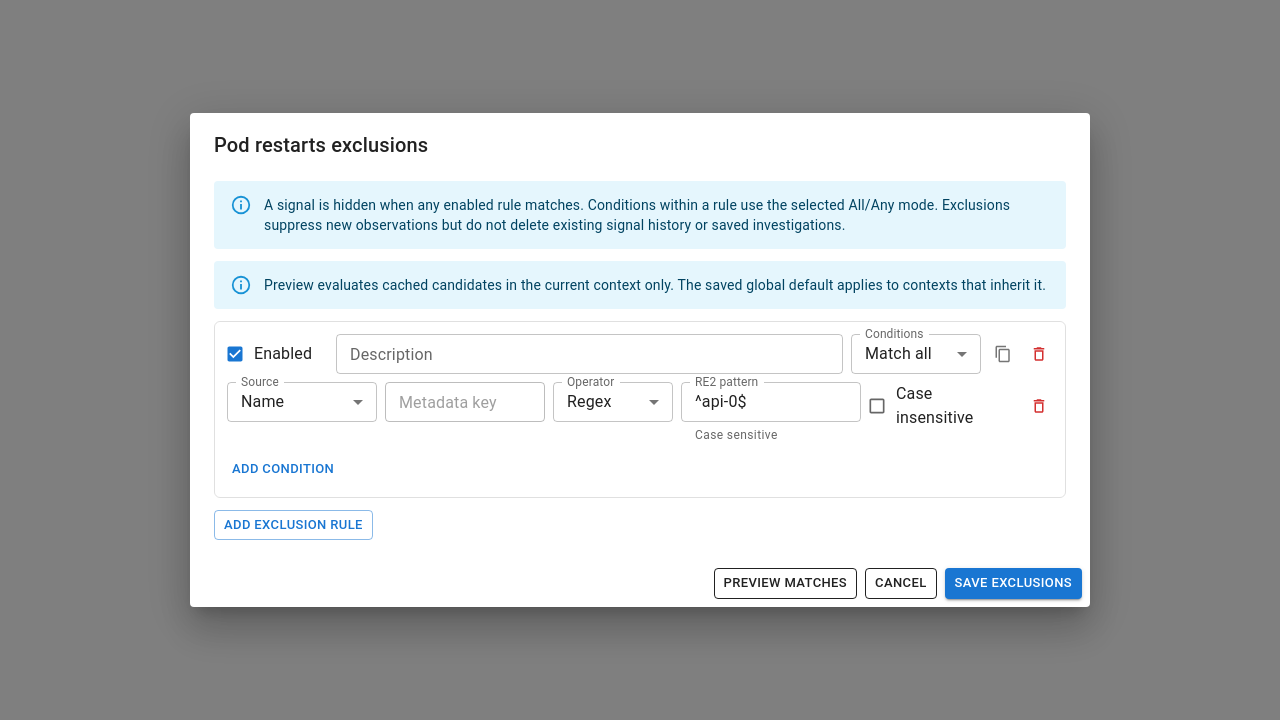
Test: SignalExclusionsDialog › previews draft rules against cached candidates
Click the button "Preview matches". click: (785, 584)
box: [714, 568, 857, 599]
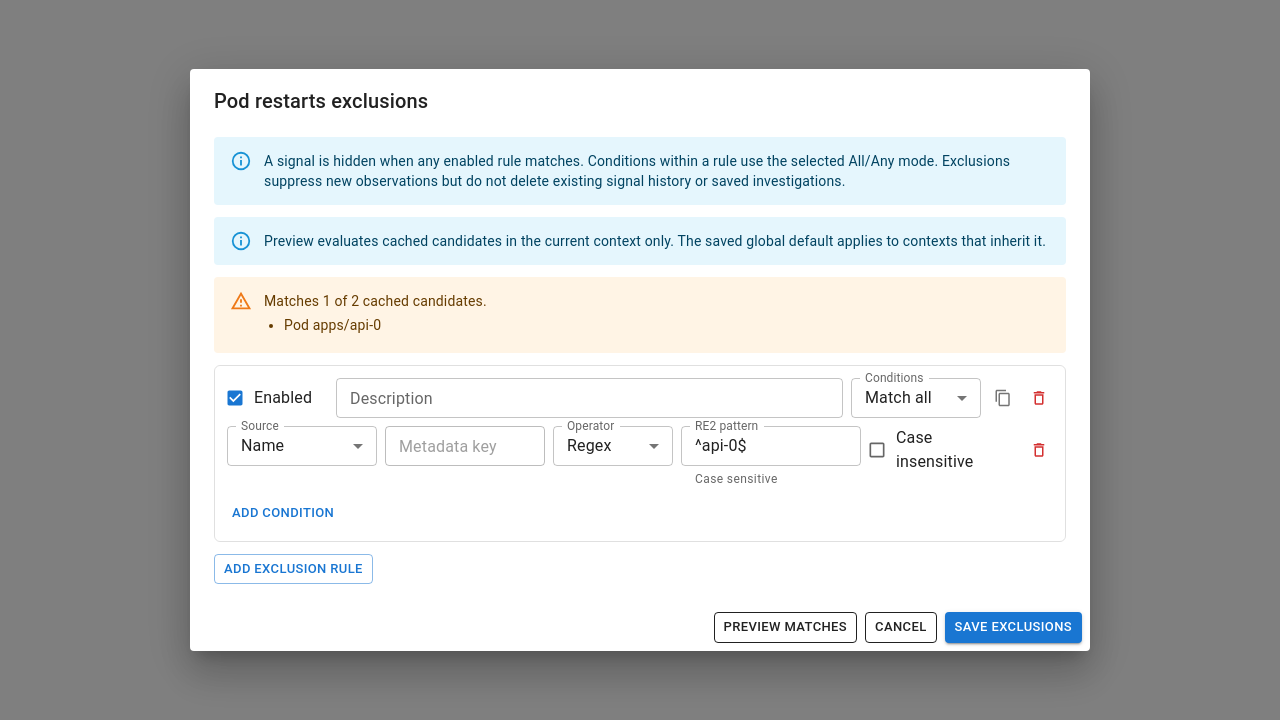
Now the text "Matches 1 of 2 cached candidates. Pod apps/api-0" is shown, box [264, 283, 487, 347]
Now the list item "Pod apps/api-0" is shown, box [284, 317, 381, 333]
